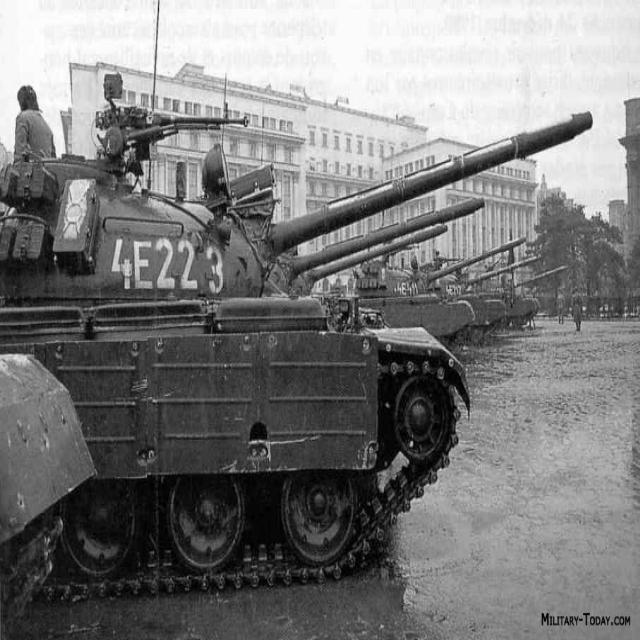Tank: (3, 59, 597, 617)
